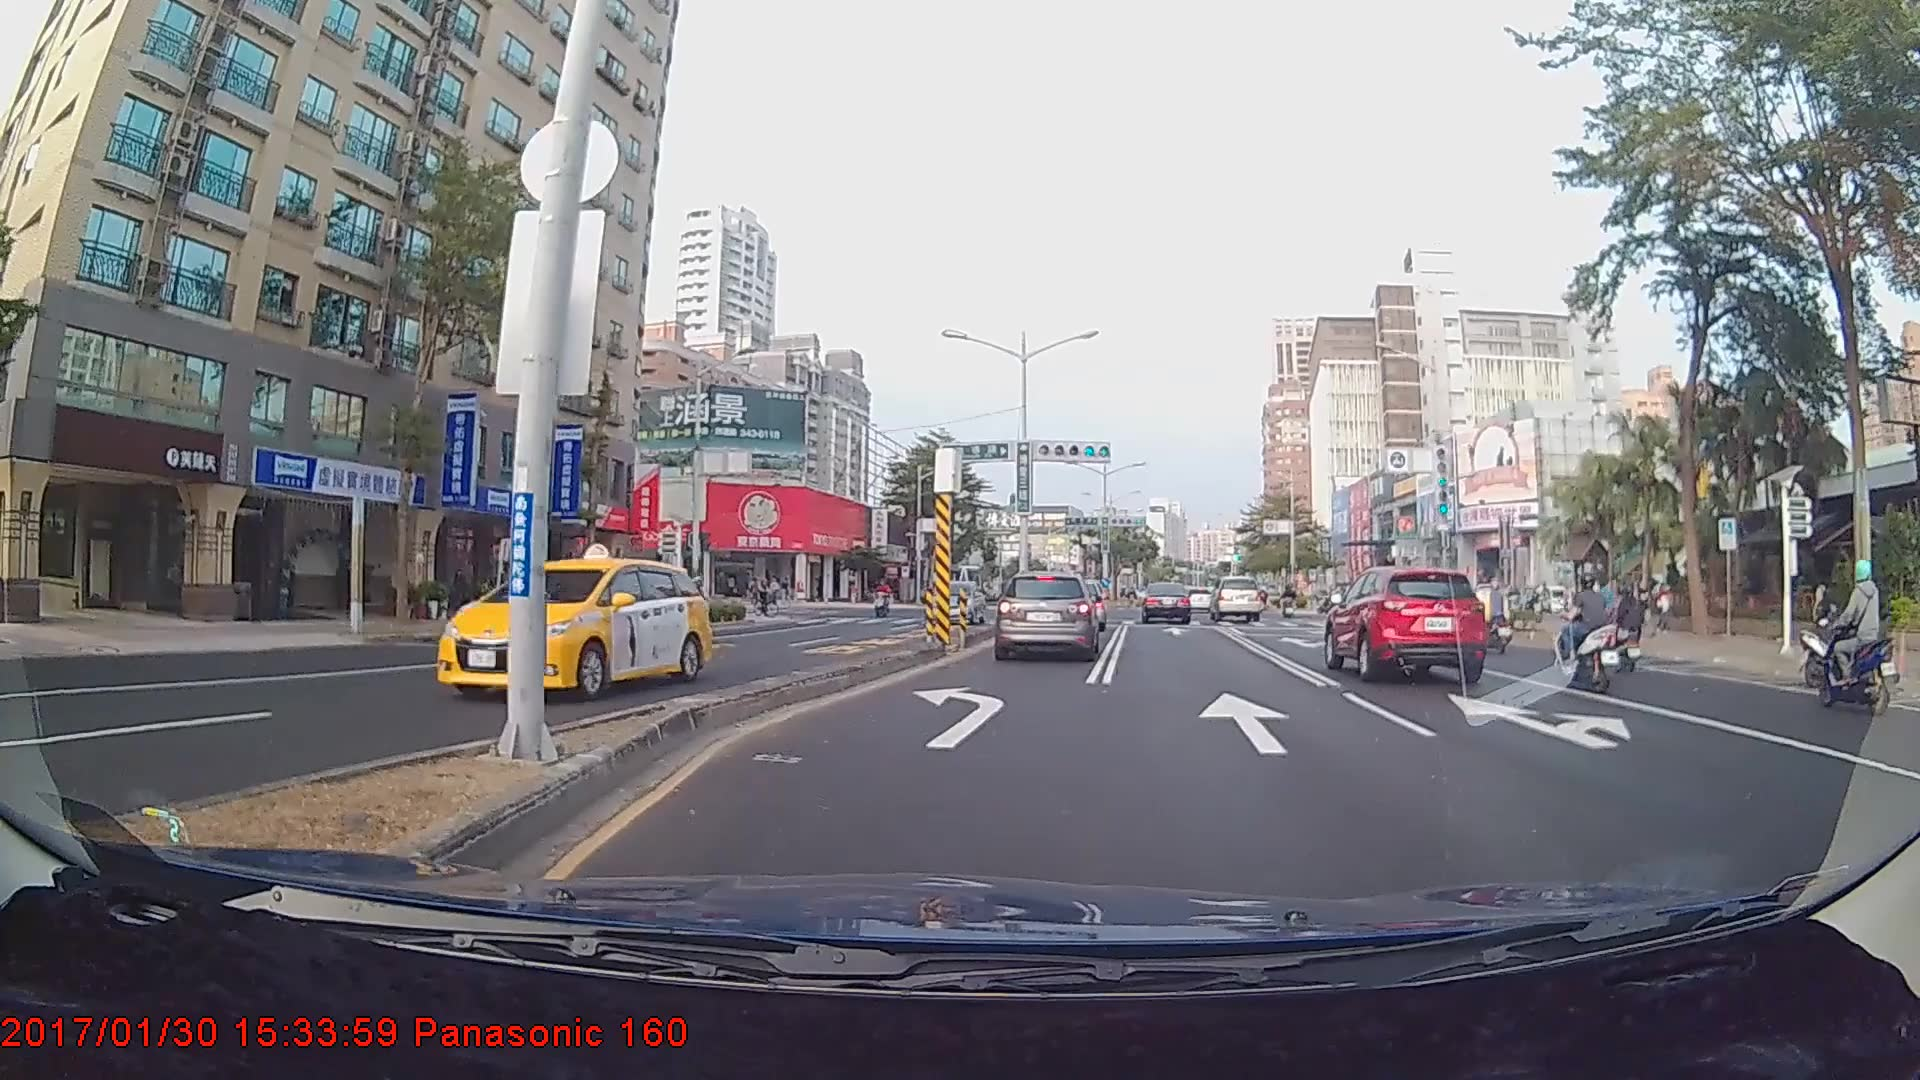rider: (1808, 558, 1895, 725), (1553, 568, 1631, 691)
vehicle: (431, 558, 707, 699), (1323, 561, 1488, 683), (995, 570, 1098, 661), (921, 579, 986, 623), (1208, 575, 1264, 623), (1139, 582, 1191, 624)
